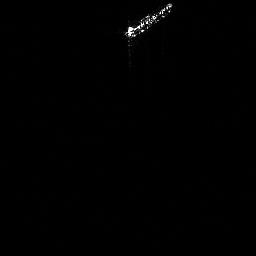ship: (118, 1, 176, 46)
